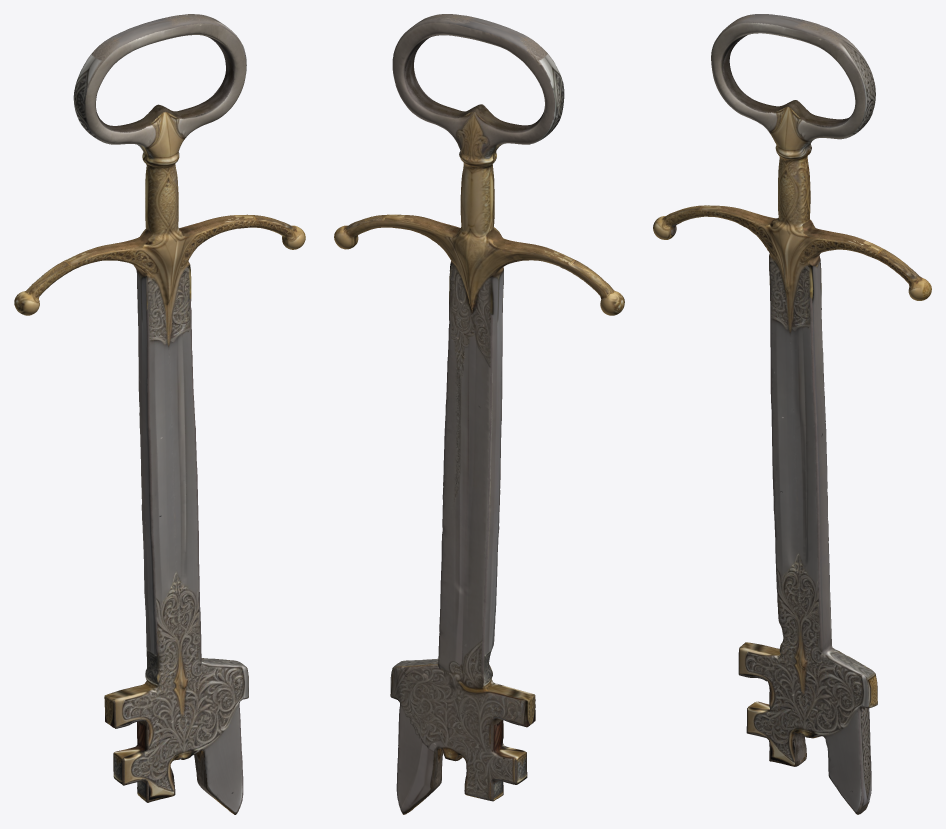
File: sword_key_0901102234_texture.fbx
3 views of the same model, side by side, from view 1: azimuth 30°, elevation 25°; view 2: azimuth 150°, elevation 25°; view 3: azimuth 330°, elevation 25° (orthographic). The views are drawn at different scales.
Visible parts, largest first — view 1: Mesh_0; view 2: Mesh_0; view 3: Mesh_0.
Boxes of the visible parts, <box> form: Mesh_0: <box>14,14,305,814</box>; Mesh_0: <box>334,14,624,814</box>; Mesh_0: <box>653,14,931,814</box>.
Size of the model in its own units: 74.16 by 199 by 10.32.
1 material, 1 textured.
